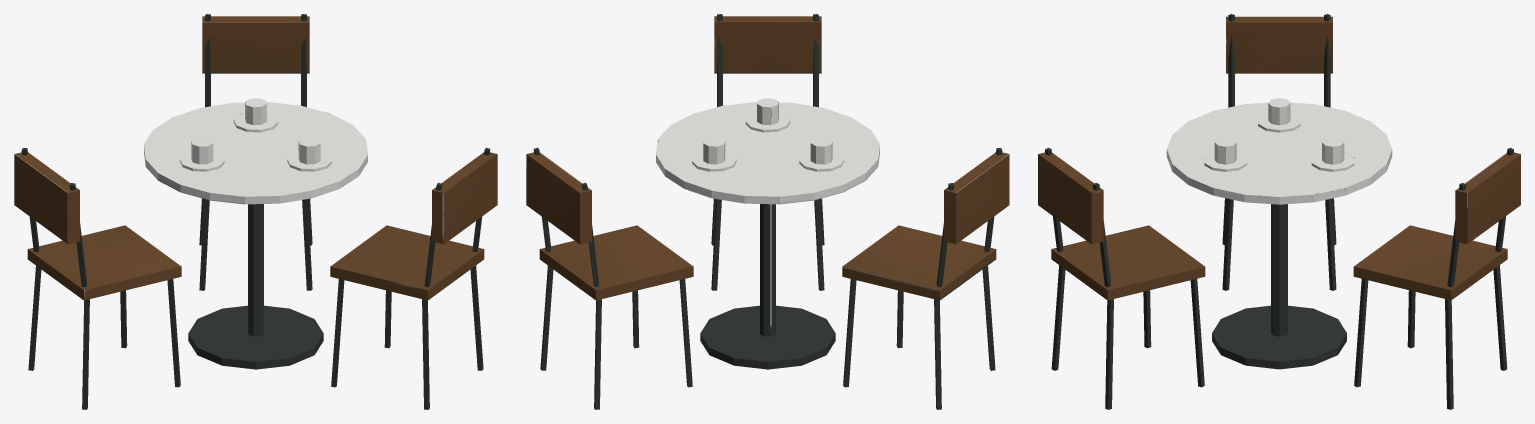
File: stolek_kavarna_04e5f008.glb
3 renders of one model, left to right at view 1: azimuth 30°, elevation 25°; view 2: azimuth 150°, elevation 25°; view 3: azimuth 270°, elevation 25°, orthographic.
Parts seen in each view (by area): view 1: dum; view 2: dum; view 3: dum.
Boxes of the visible parts, left/top/right/bottom form: dum: left=14, top=14, right=497, bottom=409; dum: left=526, top=14, right=1009, bottom=409; dum: left=1038, top=14, right=1520, bottom=409.
Bounding box in the file's own units: 1.48 × 0.88 × 1.71.
1 material, 1 textured.
